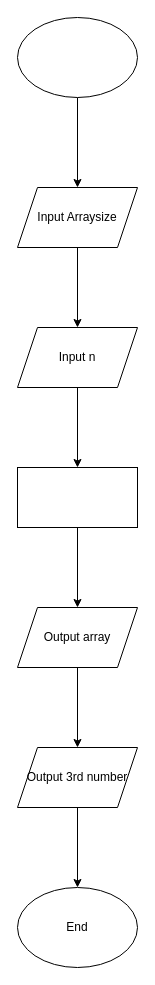
This 155x985 diagram has some shape labels left out. The box of each missing label's shape, as (x1, y1, x2, y2) in pixels:
Find array 3rd number: (16, 466, 138, 528)
Start: (16, 16, 138, 98)
